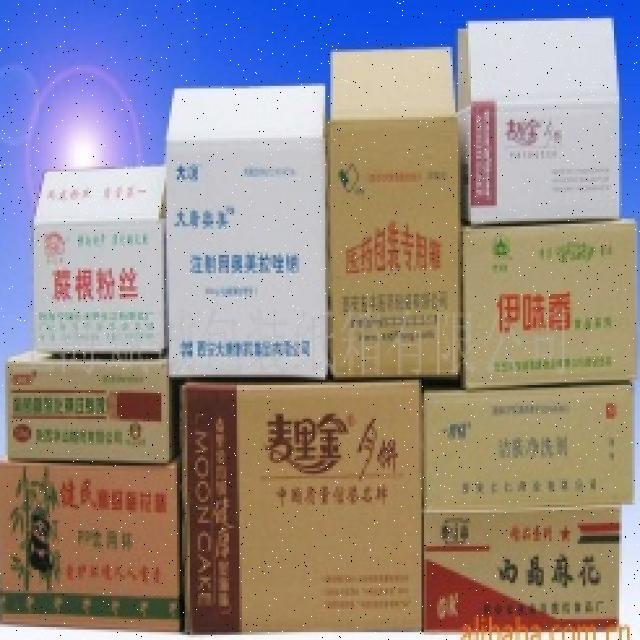box: (172, 372, 424, 640), (168, 86, 334, 380), (324, 44, 462, 378), (460, 16, 630, 218), (0, 455, 187, 634), (406, 494, 635, 640), (460, 218, 640, 374), (420, 382, 640, 506), (32, 170, 168, 358), (0, 343, 180, 466)
